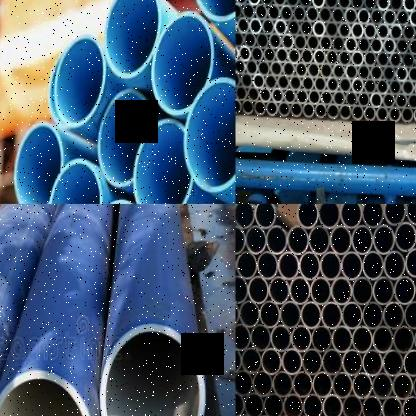pipe: (99, 322, 206, 416), (152, 12, 214, 116), (184, 76, 236, 192), (97, 88, 153, 188), (50, 35, 105, 130), (132, 119, 192, 204), (0, 369, 95, 416), (105, 0, 159, 79), (14, 120, 64, 204), (48, 159, 102, 204), (393, 274, 416, 305), (351, 224, 374, 255), (329, 224, 352, 255), (373, 223, 395, 255), (287, 224, 309, 256), (235, 250, 258, 280), (394, 220, 416, 251), (382, 301, 405, 330), (383, 250, 406, 279), (289, 276, 311, 305), (341, 301, 363, 330), (372, 325, 394, 354), (393, 325, 415, 354), (245, 225, 267, 254), (266, 225, 288, 254), (362, 251, 384, 280), (299, 251, 321, 280), (341, 251, 363, 280), (320, 251, 342, 280), (248, 275, 269, 305), (310, 276, 331, 306), (352, 276, 373, 306), (331, 276, 352, 306), (321, 300, 342, 330), (309, 225, 330, 255), (300, 301, 322, 329), (270, 324, 292, 352), (382, 349, 404, 377), (373, 276, 394, 305), (280, 300, 301, 329), (362, 301, 383, 330), (291, 324, 312, 353), (352, 325, 373, 354), (257, 251, 278, 280), (278, 251, 299, 280), (260, 348, 282, 375), (281, 348, 303, 375), (269, 276, 290, 304), (239, 300, 260, 328), (250, 324, 271, 352), (311, 325, 332, 353), (241, 347, 262, 375), (322, 348, 343, 376), (362, 349, 383, 377), (252, 370, 273, 398), (312, 371, 333, 399), (332, 371, 353, 399), (352, 372, 373, 400), (372, 372, 393, 400), (259, 301, 280, 328), (342, 349, 363, 376), (392, 373, 413, 400), (332, 325, 352, 353), (302, 348, 322, 376), (273, 370, 293, 398), (339, 204, 362, 228), (293, 371, 313, 398), (318, 204, 340, 228), (383, 204, 406, 226), (362, 204, 384, 227), (302, 392, 323, 416), (297, 204, 318, 228), (255, 204, 276, 228), (243, 391, 263, 416), (263, 391, 283, 416), (235, 369, 253, 396), (341, 393, 362, 416), (282, 392, 302, 416), (235, 204, 255, 228), (361, 394, 382, 416), (322, 393, 342, 416), (235, 323, 251, 351), (381, 394, 401, 416), (402, 348, 416, 377), (404, 300, 416, 329), (405, 247, 416, 277), (236, 275, 247, 304), (401, 395, 416, 416), (401, 22, 416, 41), (236, 225, 245, 255), (254, 2, 268, 21), (331, 6, 345, 25), (357, 7, 371, 26), (287, 18, 301, 37), (389, 22, 403, 41), (343, 36, 358, 53), (242, 2, 256, 20), (267, 3, 281, 21), (325, 20, 339, 38), (363, 22, 377, 40), (376, 22, 390, 40), (243, 31, 257, 49), (357, 36, 371, 54), (395, 37, 409, 55), (275, 46, 289, 64), (300, 47, 314, 65), (276, 73, 290, 91), (301, 74, 315, 92), (313, 75, 327, 93), (363, 77, 377, 95), (351, 103, 365, 121), (338, 103, 352, 121), (363, 104, 377, 122), (280, 4, 293, 23), (383, 8, 396, 27), (396, 8, 409, 27), (351, 21, 364, 40), (389, 50, 402, 69), (305, 6, 319, 23), (261, 18, 275, 35), (306, 34, 320, 51), (369, 37, 383, 54), (262, 46, 276, 63), (287, 47, 301, 64), (357, 64, 371, 81), (382, 65, 396, 82), (357, 91, 371, 108), (369, 92, 383, 109), (400, 106, 414, 123), (293, 5, 306, 23), (319, 6, 332, 24), (344, 7, 357, 25), (370, 8, 383, 26), (249, 17, 262, 35), (275, 18, 288, 36), (300, 19, 313, 37), (332, 35, 345, 53), (402, 51, 415, 69), (307, 61, 320, 79), (395, 65, 408, 83), (264, 73, 277, 91), (327, 102, 340, 120), (376, 105, 389, 123), (388, 105, 401, 123), (313, 19, 325, 38), (376, 51, 390, 67), (338, 77, 352, 93), (388, 79, 402, 95), (401, 79, 415, 95), (345, 91, 359, 107), (256, 32, 269, 49), (281, 33, 294, 50), (294, 34, 307, 51), (383, 37, 396, 54), (313, 48, 326, 65), (351, 50, 364, 67), (364, 50, 377, 67), (320, 62, 333, 79), (332, 63, 345, 80), (289, 74, 302, 91), (326, 76, 339, 93), (376, 78, 389, 95), (382, 92, 395, 109), (269, 32, 281, 50), (251, 45, 263, 63), (326, 48, 338, 66), (272, 86, 284, 104), (333, 89, 345, 107), (242, 98, 254, 116), (278, 100, 290, 118), (302, 101, 314, 119), (338, 22, 351, 38), (338, 50, 351, 66), (345, 64, 358, 80), (370, 65, 383, 81), (394, 93, 407, 109), (237, 17, 249, 34), (320, 35, 332, 52), (238, 45, 250, 62), (246, 59, 258, 76), (258, 60, 270, 77), (296, 61, 308, 78), (240, 72, 252, 89), (352, 77, 364, 94), (260, 86, 272, 103), (284, 88, 296, 105), (321, 89, 333, 106), (266, 100, 278, 117), (290, 101, 302, 118), (314, 102, 326, 119), (235, 391, 243, 416), (406, 204, 416, 224), (297, 87, 308, 105), (309, 88, 320, 106), (254, 99, 265, 117), (252, 73, 264, 89), (248, 86, 260, 102), (271, 60, 282, 77), (283, 61, 294, 78), (236, 85, 247, 101), (402, 0, 416, 12), (388, 0, 403, 11), (236, 347, 242, 374), (236, 58, 245, 75), (407, 92, 416, 109), (408, 37, 416, 55), (376, 0, 390, 10), (236, 31, 244, 48), (408, 65, 416, 82), (351, 0, 364, 10), (363, 0, 376, 10), (324, 0, 338, 9), (337, 0, 351, 9), (409, 9, 416, 27), (311, 0, 324, 9), (298, 0, 312, 8), (236, 299, 240, 327), (236, 1, 242, 19), (236, 97, 242, 114), (272, 0, 286, 7), (285, 0, 299, 7), (235, 70, 240, 88), (413, 372, 416, 401), (247, 0, 260, 6), (260, 0, 273, 6), (236, 0, 247, 5), (235, 44, 238, 61), (413, 79, 416, 96), (413, 106, 416, 123), (235, 414, 255, 416), (254, 414, 274, 416), (414, 51, 416, 69), (415, 23, 416, 41)
